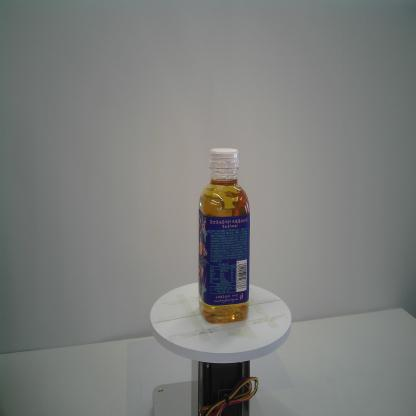Drink: (196, 146, 252, 325)
